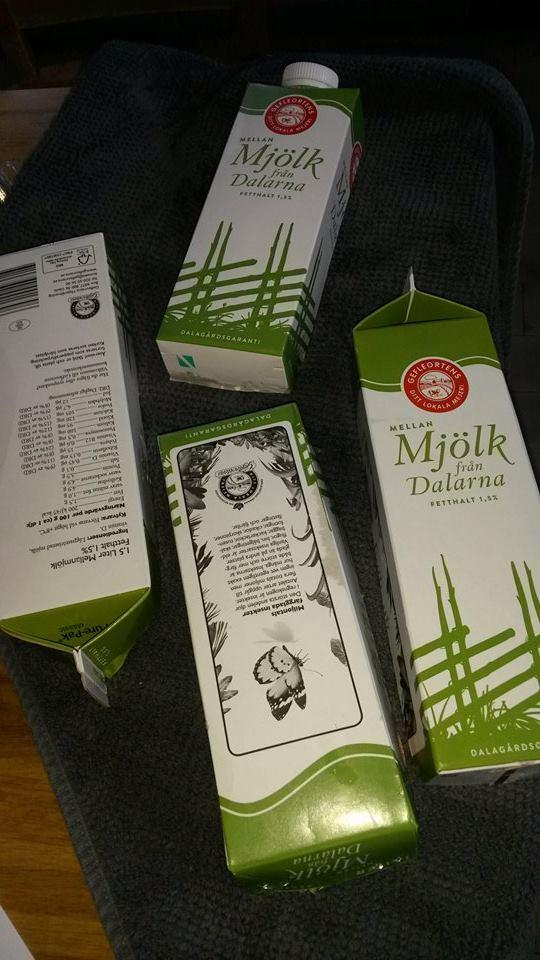cardboard: (159, 403, 417, 888), (354, 289, 539, 774), (0, 234, 151, 704), (157, 62, 362, 391)
